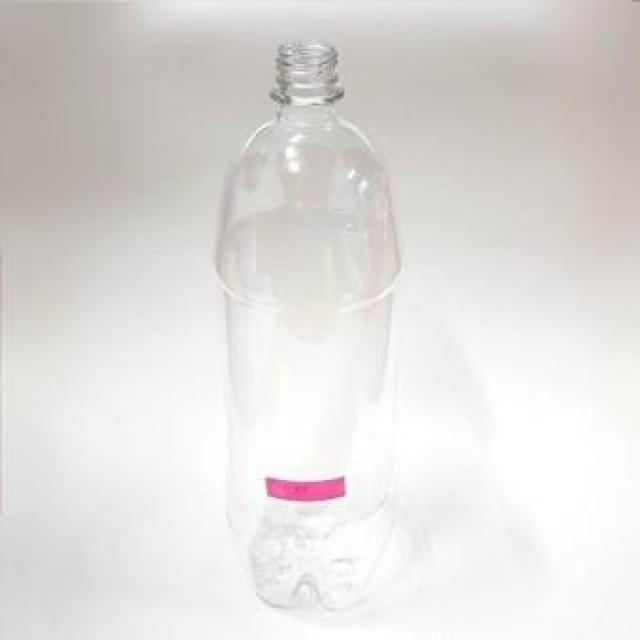bottle: (208, 27, 428, 637)
